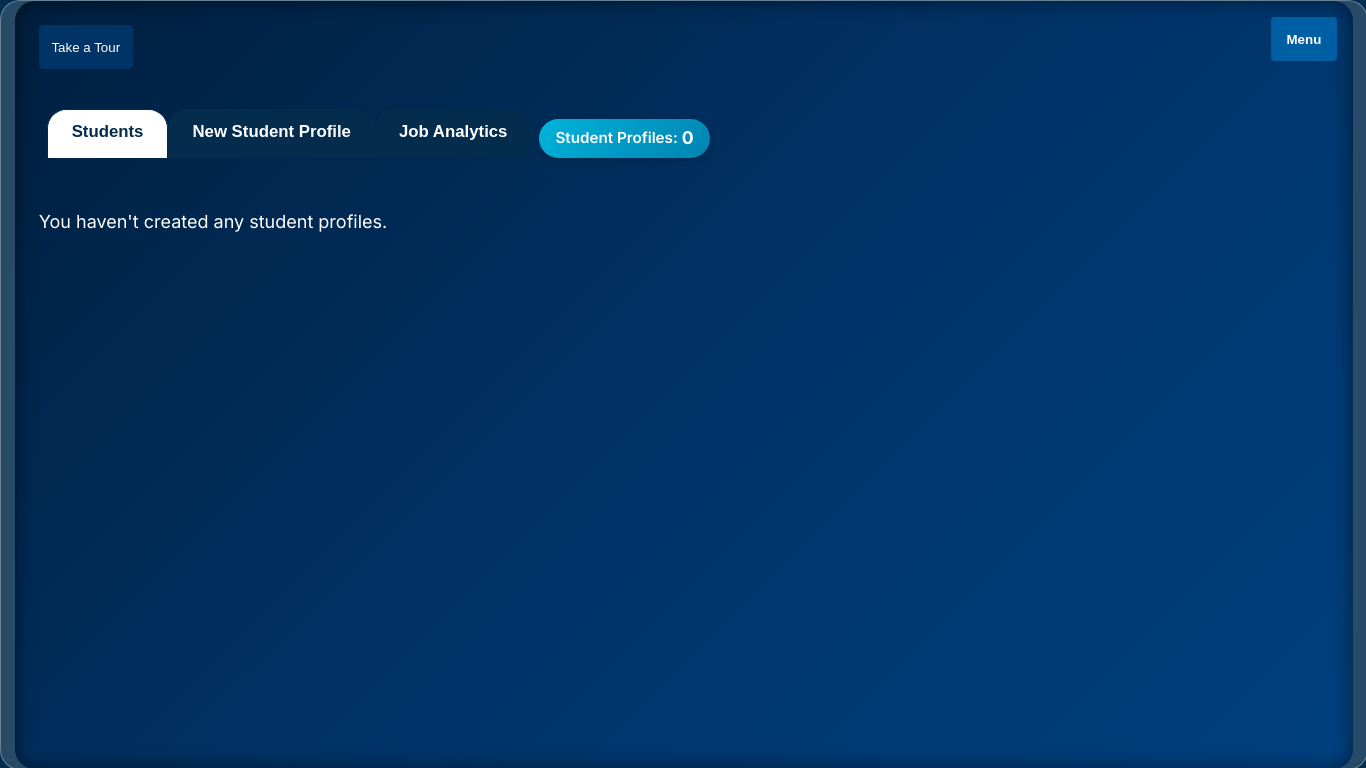
Scenario: loads job analytics when tab selected
Click the button "Job Analytics" at (453, 134), box [375,109,532,158]
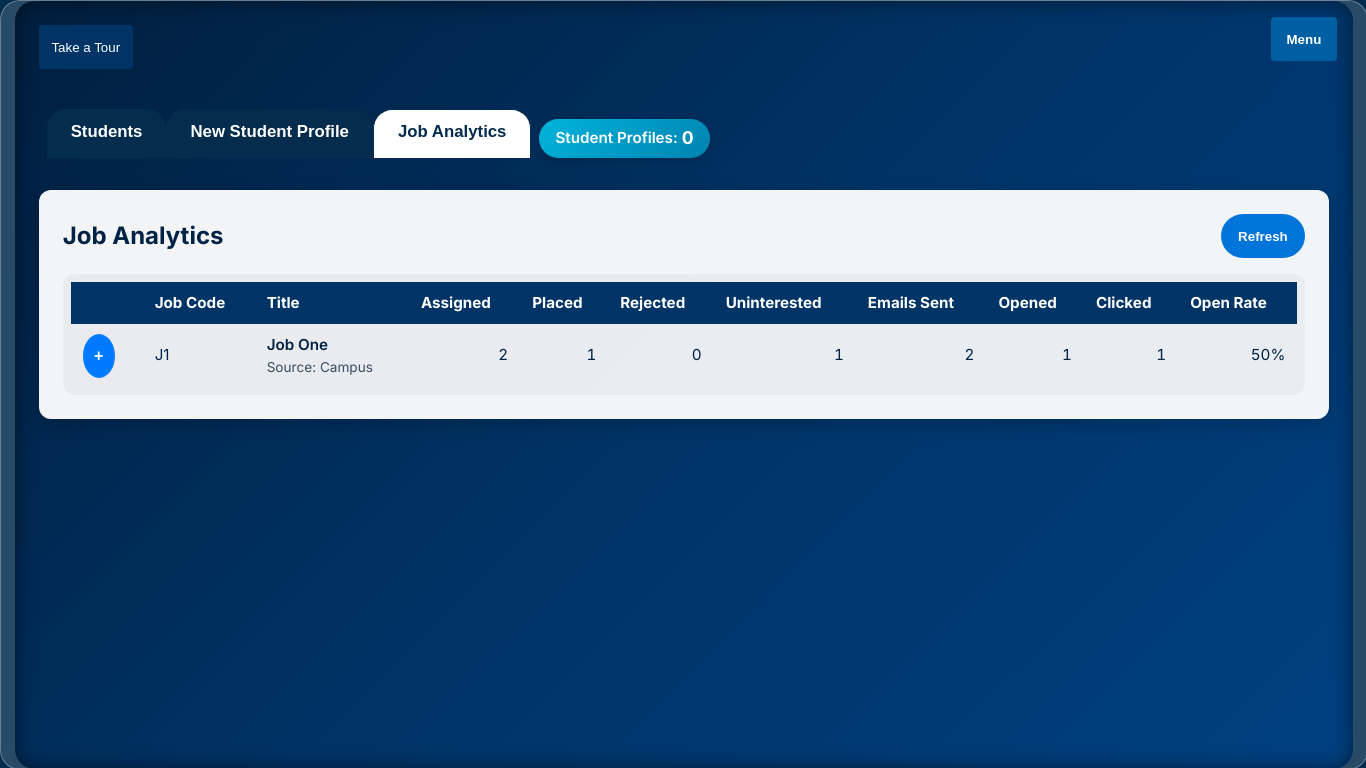
expect the text "Job One" is shown: met, box [267,335,328,354]
Click the button titled "Expand" at (99, 356), box [83,334,115,378]
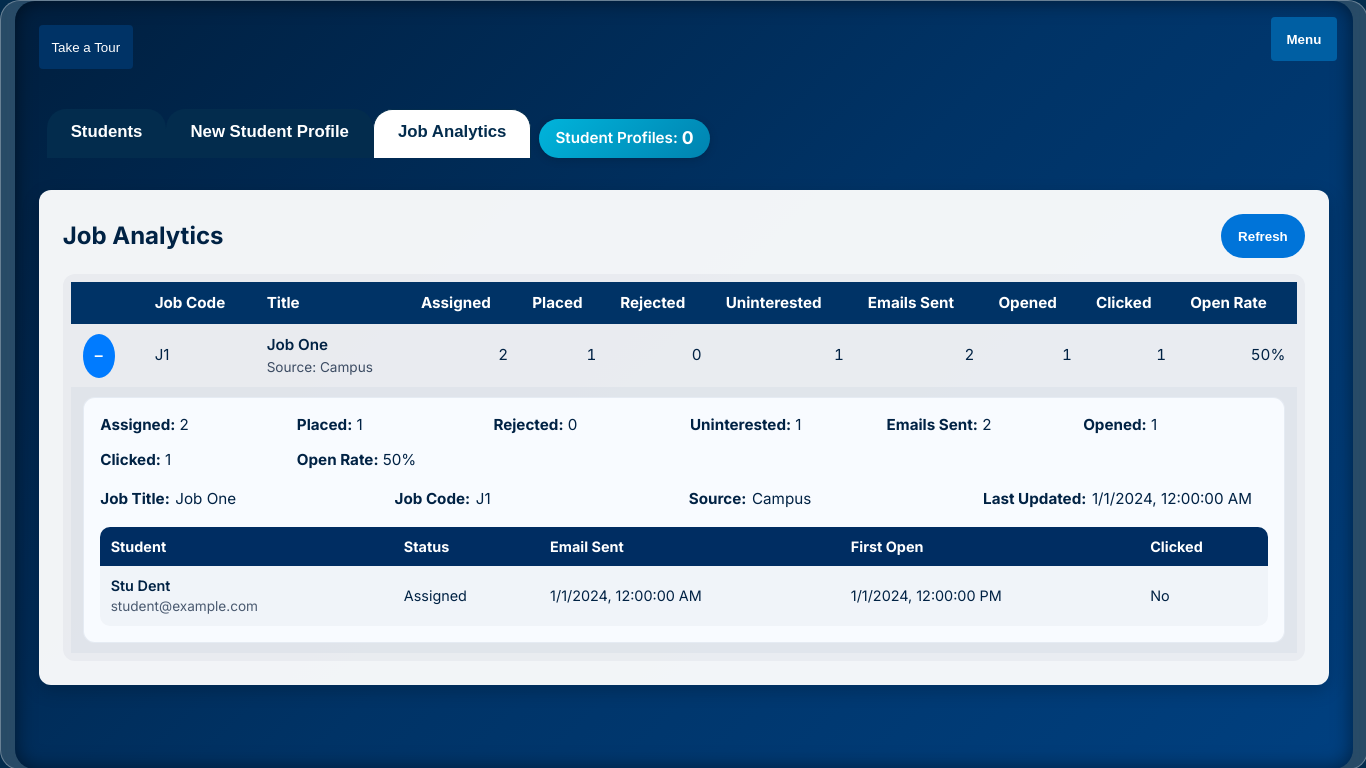
expect the text "Stu Dent" is shown: met, box [111,577,170,594]
expect the text "student@example.com" is shown: met, box [111,598,258,614]
